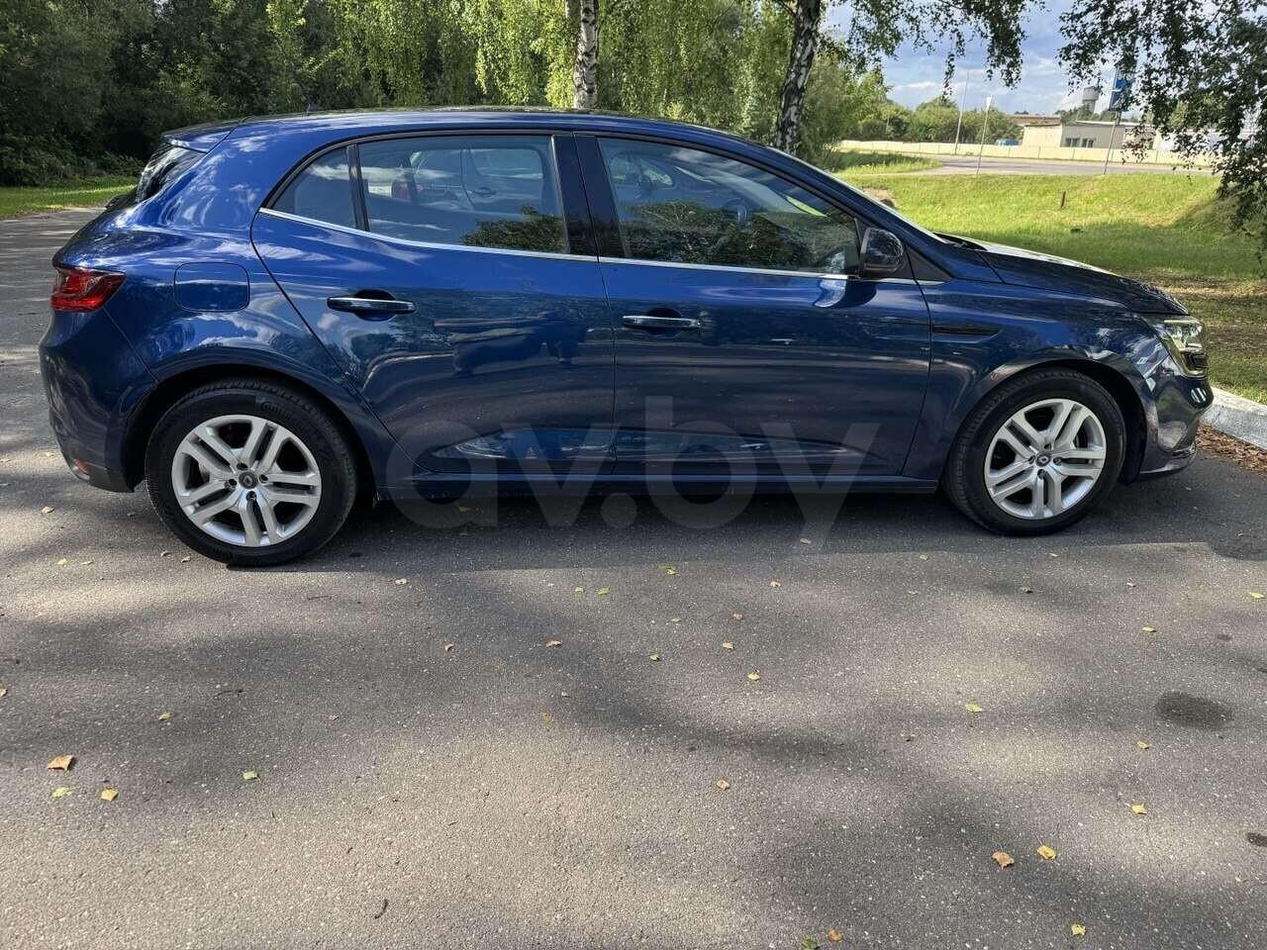Megane_2016-2020: (37, 99, 1213, 575)
